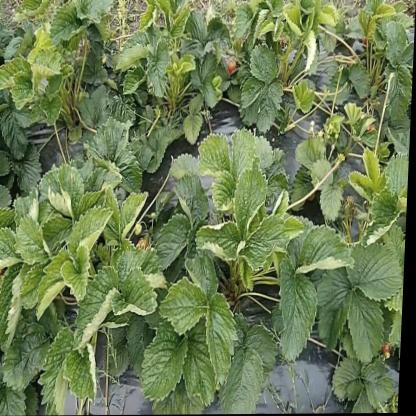ripe: (385, 339, 396, 364), (227, 61, 237, 73), (140, 240, 150, 251)
unripe: (137, 222, 144, 237)
